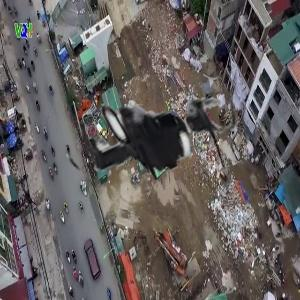drone: (53, 32, 246, 225)
